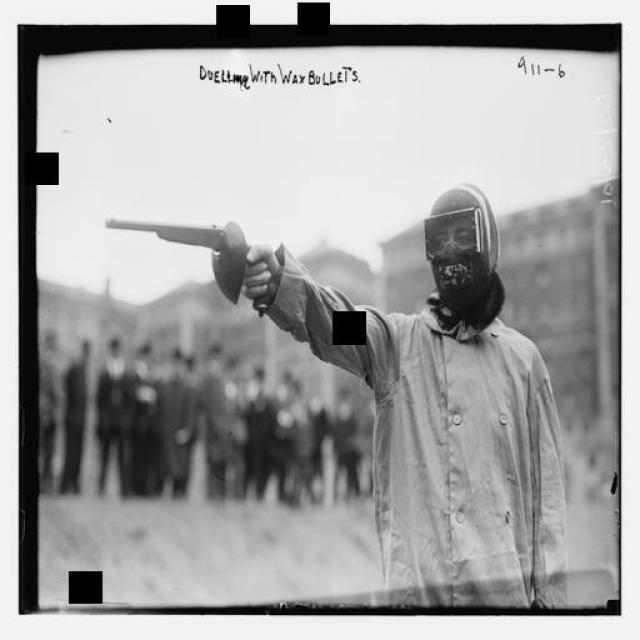gun: (102, 214, 244, 300)
